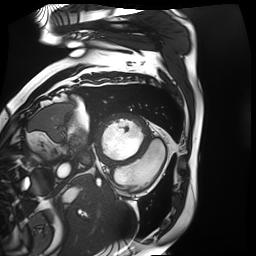ventricle: (102, 121, 142, 161)
